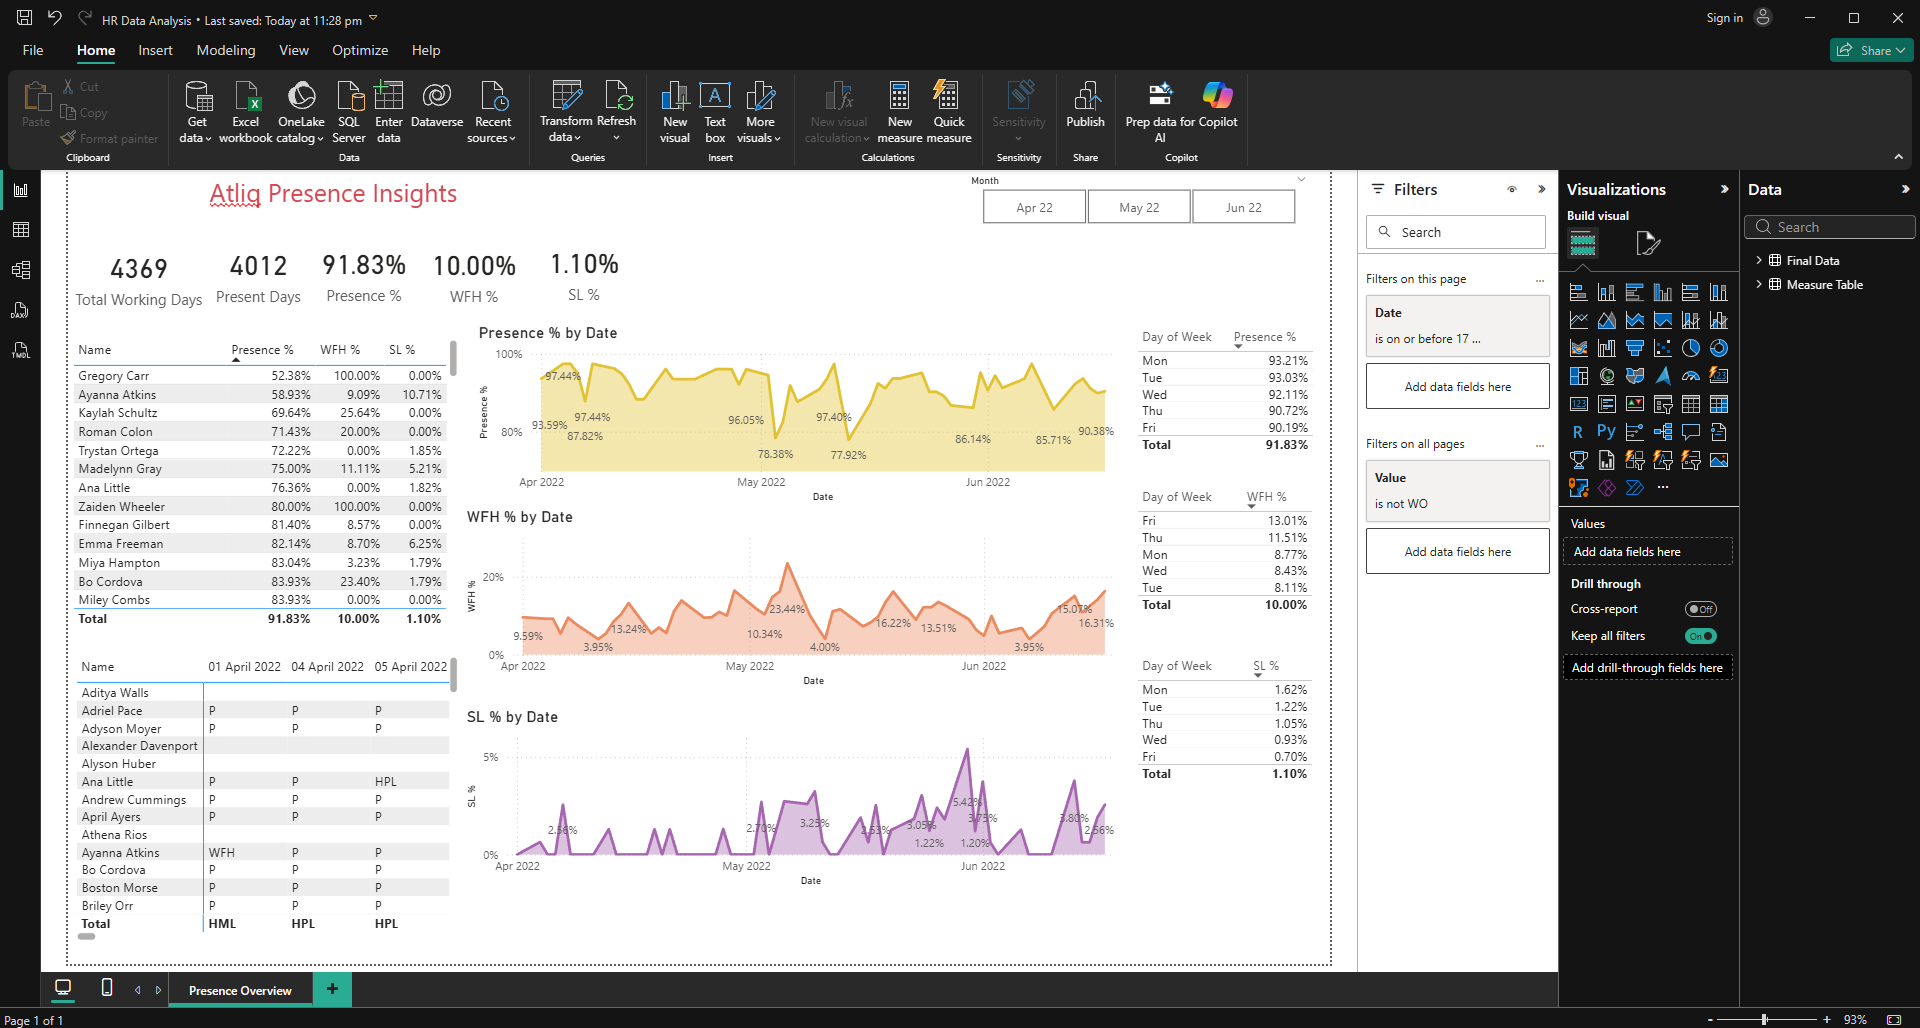

The page's visual inventory and layout, read from the dashboard file:
{"tool":"powerbi","page":{"name":"Presence Overview","canvas":[1350,850],"ordinal":0},"visuals":[{"type":"card","fields":{"Values":["Measure  Table.Total Working Days"]},"box":[0,64.2,152,99.6],"z":0},{"type":"card","fields":{"Values":["Measure  Table.Present Days"]},"box":[149.9,64.2,108.1,93.1],"z":1000},{"type":"card","fields":{"Values":["Measure  Table.Present %"]},"box":[258,64.2,117.8,91],"z":2000},{"type":"slicer","fields":{"Values":["Final Data.Month"]},"box":[953.8,0,384.3,64.2],"z":3000},{"type":"card","fields":{"Values":["Measure  Table.WFH %"]},"box":[375.8,64.2,117.8,93.1],"z":4000},{"type":"card","fields":{"Values":["Measure  Table.SL %"]},"box":[493.5,62.1,117.8,93.1],"z":5000},{"type":"tableEx","fields":{"Values":["Final Data.Name","Measure  Table.Presence %","Measure  Table.WFH %","Measure  Table.SL %"]},"box":[0,176.6,421.8,316.9],"z":6000},{"type":"textbox","box":[36.4,0,495.7,62.1],"z":7000},{"type":"pivotTable","fields":{"Rows":["Final Data.Name"],"Values":["Min(Final Data.Value)"],"Columns":["Final Data.Date"]},"box":[4.3,516,417.5,313.7],"z":8000},{"type":"stackedAreaChart","fields":{"Category":["Final Data.Date"],"Y":["Measure  Table.Presence %"]},"box":[434.6,163.8,704.4,197],"z":9000},{"type":"stackedAreaChart","fields":{"Category":["Final Data.Date"],"Y":["Measure  Table.WFH %"]},"box":[421.8,360.8,717.3,197],"z":10000},{"type":"stackedAreaChart","fields":{"Category":["Final Data.Date"],"Y":["Measure  Table.SL %"]},"box":[421.8,574.9,717.3,197],"z":11000},{"type":"tableEx","fields":{"Values":["Final Data.Day of Week","Measure  Table.Presence %"]},"box":[1139,163.8,199.1,197],"z":12000},{"type":"tableEx","fields":{"Values":["Final Data.Day of Week","Measure  Table.WFH %"]},"box":[1139,335.1,199.1,197],"z":13000},{"type":"tableEx","fields":{"Values":["Final Data.Day of Week","Measure  Table.SL %"]},"box":[1139,516,199.1,197],"z":14000}]}

Visuals, with their boxes on the page's 1350x850 design canvas (x1, y1, x2, y2). These are canvas units, not pixel positions in the 1920x1028 screenshot, which may show the page scaled, cropped or inside an application window:
card - Measure  Table.Total Working Days: (left=0, top=64, right=152, bottom=164)
card - Measure  Table.Present Days: (left=150, top=64, right=258, bottom=157)
card - Measure  Table.Present %: (left=258, top=64, right=376, bottom=155)
slicer - Final Data.Month: (left=954, top=0, right=1338, bottom=64)
card - Measure  Table.WFH %: (left=376, top=64, right=494, bottom=157)
card - Measure  Table.SL %: (left=494, top=62, right=611, bottom=155)
tableEx - Final Data.Name x Measure  Table.Presence %: (left=0, top=177, right=422, bottom=494)
textbox: (left=36, top=0, right=532, bottom=62)
pivotTable - Final Data.Name x Min(Final Data.Value): (left=4, top=516, right=422, bottom=830)
stackedAreaChart - Final Data.Date x Measure  Table.Presence %: (left=435, top=164, right=1139, bottom=361)
stackedAreaChart - Final Data.Date x Measure  Table.WFH %: (left=422, top=361, right=1139, bottom=558)
stackedAreaChart - Final Data.Date x Measure  Table.SL %: (left=422, top=575, right=1139, bottom=772)
tableEx - Final Data.Day of Week x Measure  Table.Presence %: (left=1139, top=164, right=1338, bottom=361)
tableEx - Final Data.Day of Week x Measure  Table.WFH %: (left=1139, top=335, right=1338, bottom=532)
tableEx - Final Data.Day of Week x Measure  Table.SL %: (left=1139, top=516, right=1338, bottom=713)
